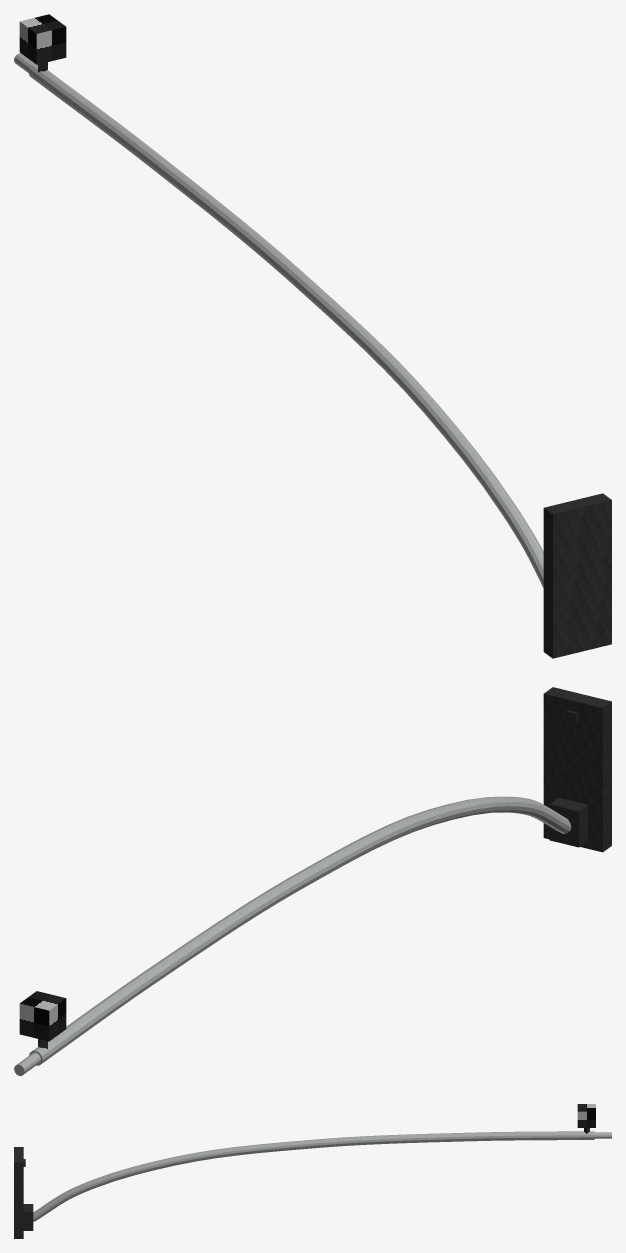
File: arm_6_straight.obj
The picture shows the model from 3 angles, top to bottom: view 1: azimuth 30°, elevation 25°; view 2: azimuth 150°, elevation 25°; view 3: azimuth 270°, elevation 25°; orthographic projection. The views are drawn at different scales.
Parts seen in each view (by area): view 1: pole_light_mount_6_straight; view 2: pole_light_mount_6_straight; view 3: pole_light_mount_6_straight.
Boxes of the visible parts, left/top/right/bottom form: pole_light_mount_6_straight: left=14, top=14, right=611, bottom=658; pole_light_mount_6_straight: left=14, top=687, right=611, bottom=1075; pole_light_mount_6_straight: left=14, top=1104, right=611, bottom=1238.
Size of the model in its own units: 0.375 by 1.41 by 6.19.
